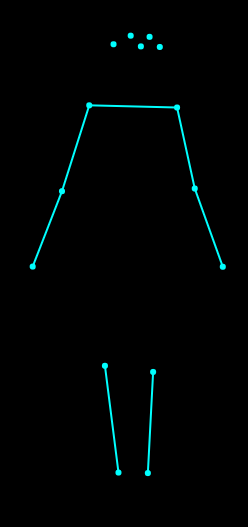mountain: (29, 25, 229, 487)
